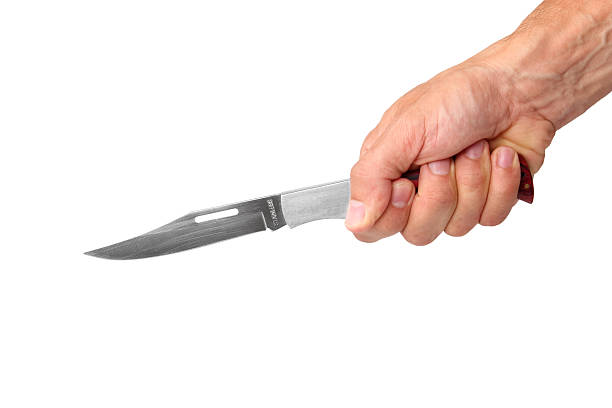knife: (81, 149, 535, 260)
